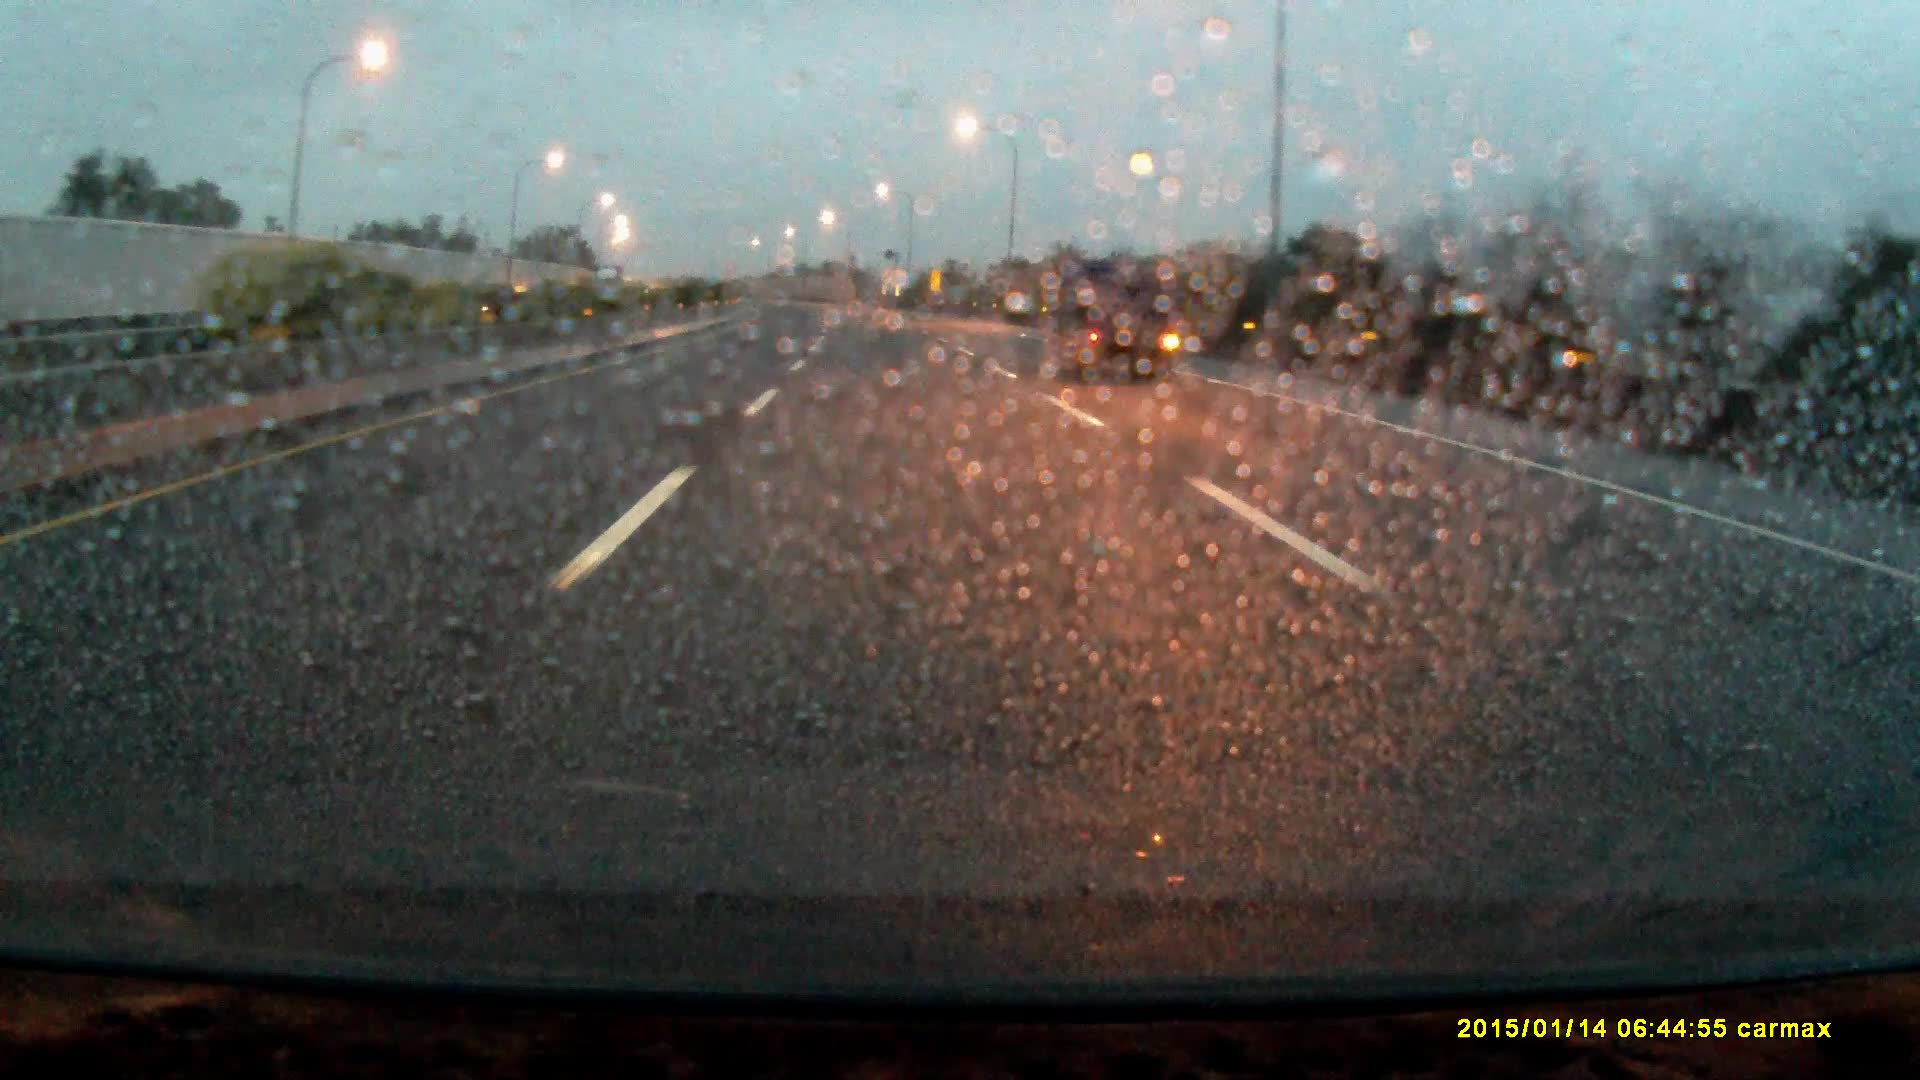vehicle: (1050, 260, 1182, 388), (593, 266, 624, 301)
